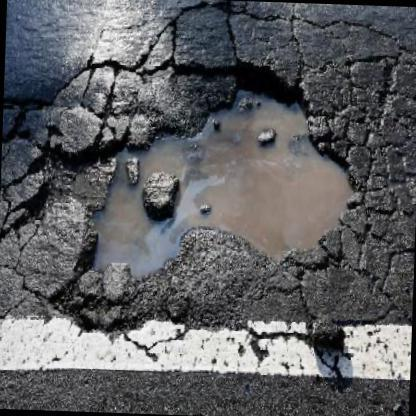pothole: (0, 53, 370, 317)
